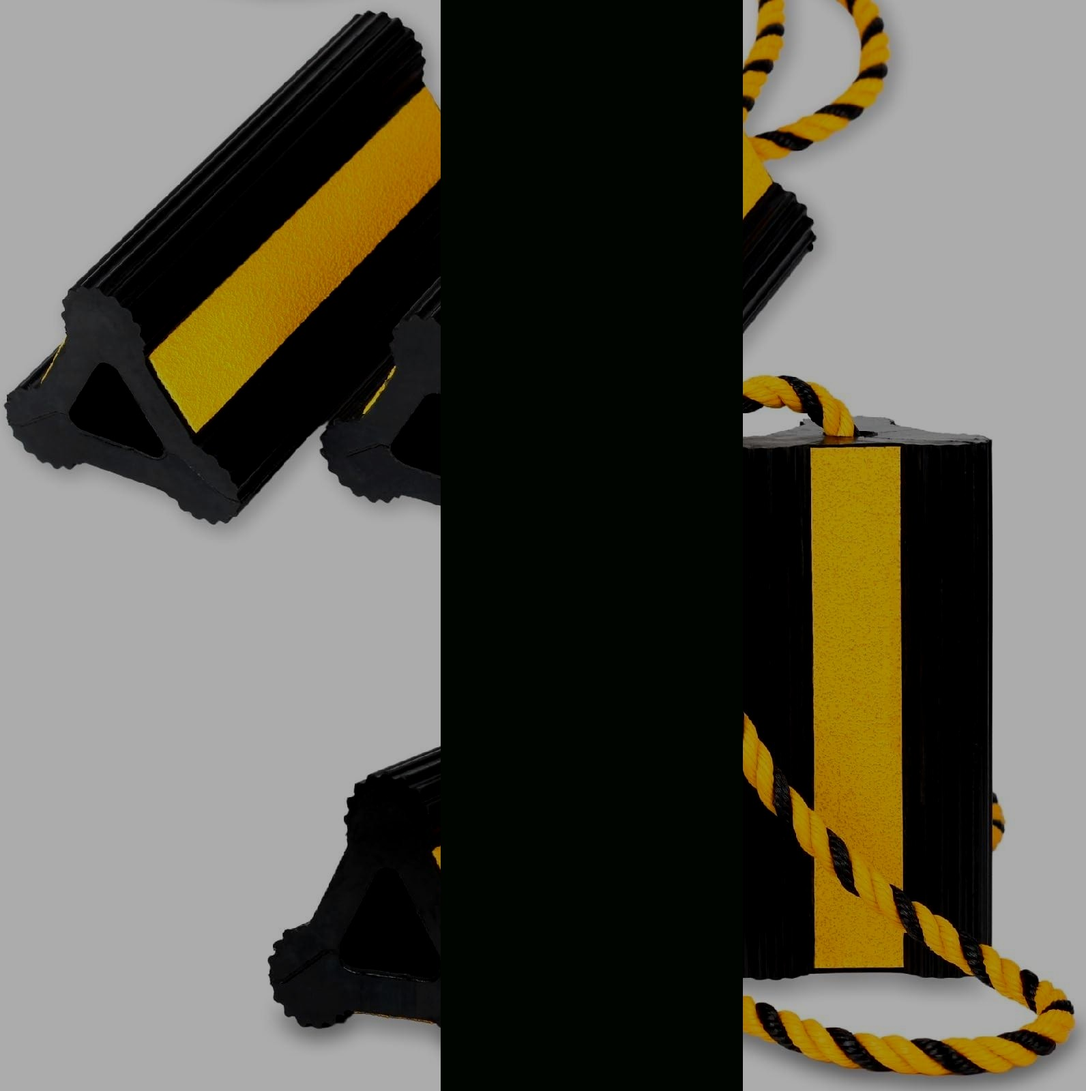chock: (4, 8, 508, 544), (321, 33, 817, 569), (269, 671, 730, 1057), (711, 415, 1008, 981)
